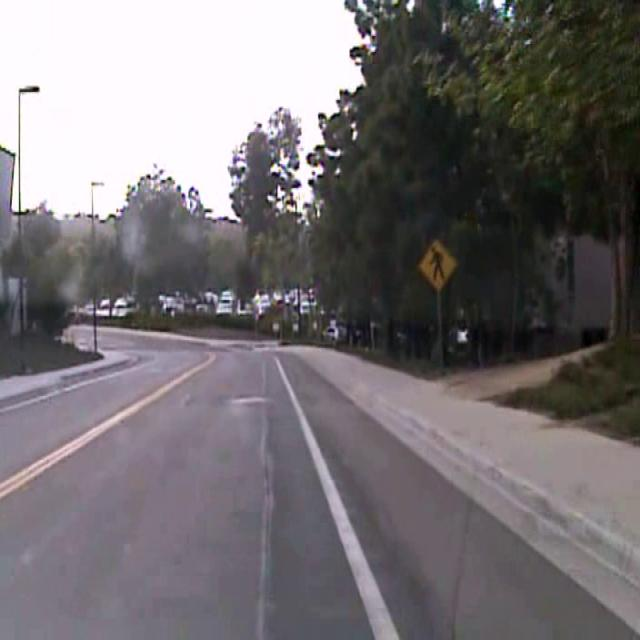pedestrianCrossing: (417, 235, 458, 292)
